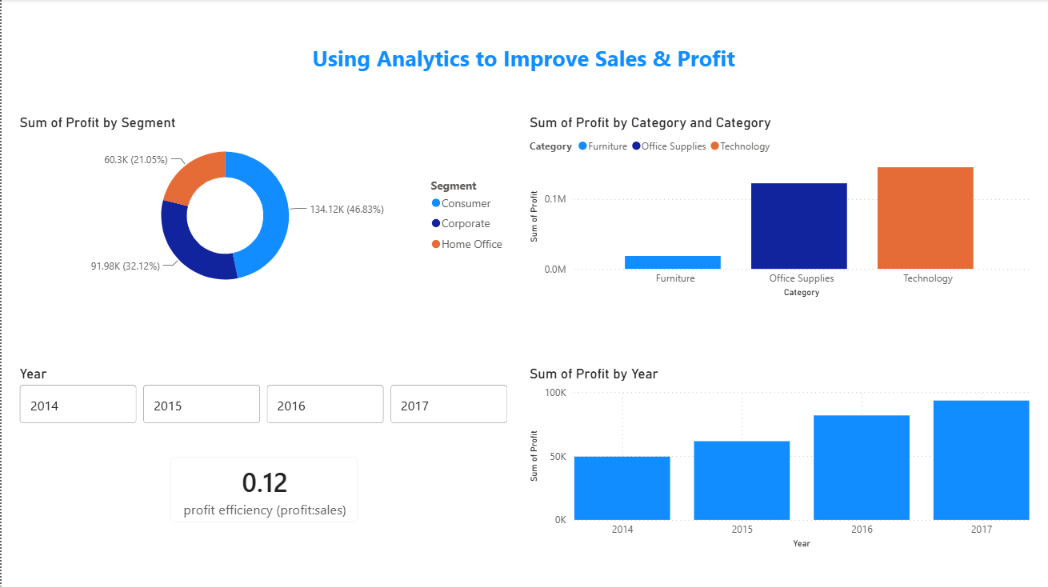

This screenshot's page, from the dashboard's own definition file:
{"tool":"powerbi","page":{"name":"Page 1","canvas":[1280,720],"ordinal":0},"visuals":[{"type":"columnChart","fields":{"Category":["Sample - Superstore.Order Date.Variation.Date Hierarchy.Year","Sample - Superstore.Order Date.Variation.Date Hierarchy.Quarter","Sample - Superstore.Order Date.Variation.Date Hierarchy.Month","Sample - Superstore.Order Date.Variation.Date Hierarchy.Day"],"Y":["Sum(Sample - Superstore.Profit)"]},"box":[640.9,447,621,229.2],"z":0},{"type":"advancedSlicerVisual","fields":{"Values":["Sample - Superstore.Order Date.Variation.Date Hierarchy.Year"]},"box":[17,447,609.7,76.4],"z":1000},{"type":"columnChart","fields":{"Category":["Sample - Superstore.Category","Sample - Superstore.Sub-Category"],"Y":["Sum(Sample - Superstore.Profit)"],"Series":["Sample - Superstore.Category"]},"box":[640.9,140.1,621,229.2],"z":2000},{"type":"donutChart","fields":{"Y":["Sum(Sample - Superstore.Profit)"],"Category":["Sample - Superstore.Segment"]},"box":[17,140.1,609.7,229.2],"z":3000},{"type":"cardVisual","fields":{"Data":["Sample - Superstore.profit_eff"]},"box":[189.6,543.2,263.1,114.6],"z":4000},{"type":"textbox","box":[38.2,49.5,1201.1,70.7],"z":5000}]}

Visuals, with their boxes in screenshot pixels (x1, y1, x2, y2), scaled from the page's 1280x720 canvas onto the 1048x587 screenshot:
columnChart - Sample - Superstore.Order Date.Variation.Date Hierarchy.Year x Sample - Superstore.Order Date.Variation.Date Hierarchy.Quarter: (left=525, top=364, right=1033, bottom=551)
advancedSlicerVisual - Sample - Superstore.Order Date.Variation.Date Hierarchy.Year: (left=14, top=364, right=513, bottom=427)
columnChart - Sample - Superstore.Category x Sample - Superstore.Sub-Category: (left=525, top=114, right=1033, bottom=301)
donutChart - Sum(Sample - Superstore.Profit) x Sample - Superstore.Segment: (left=14, top=114, right=513, bottom=301)
cardVisual - Sample - Superstore.profit_eff: (left=155, top=443, right=371, bottom=536)
textbox: (left=31, top=40, right=1015, bottom=98)
